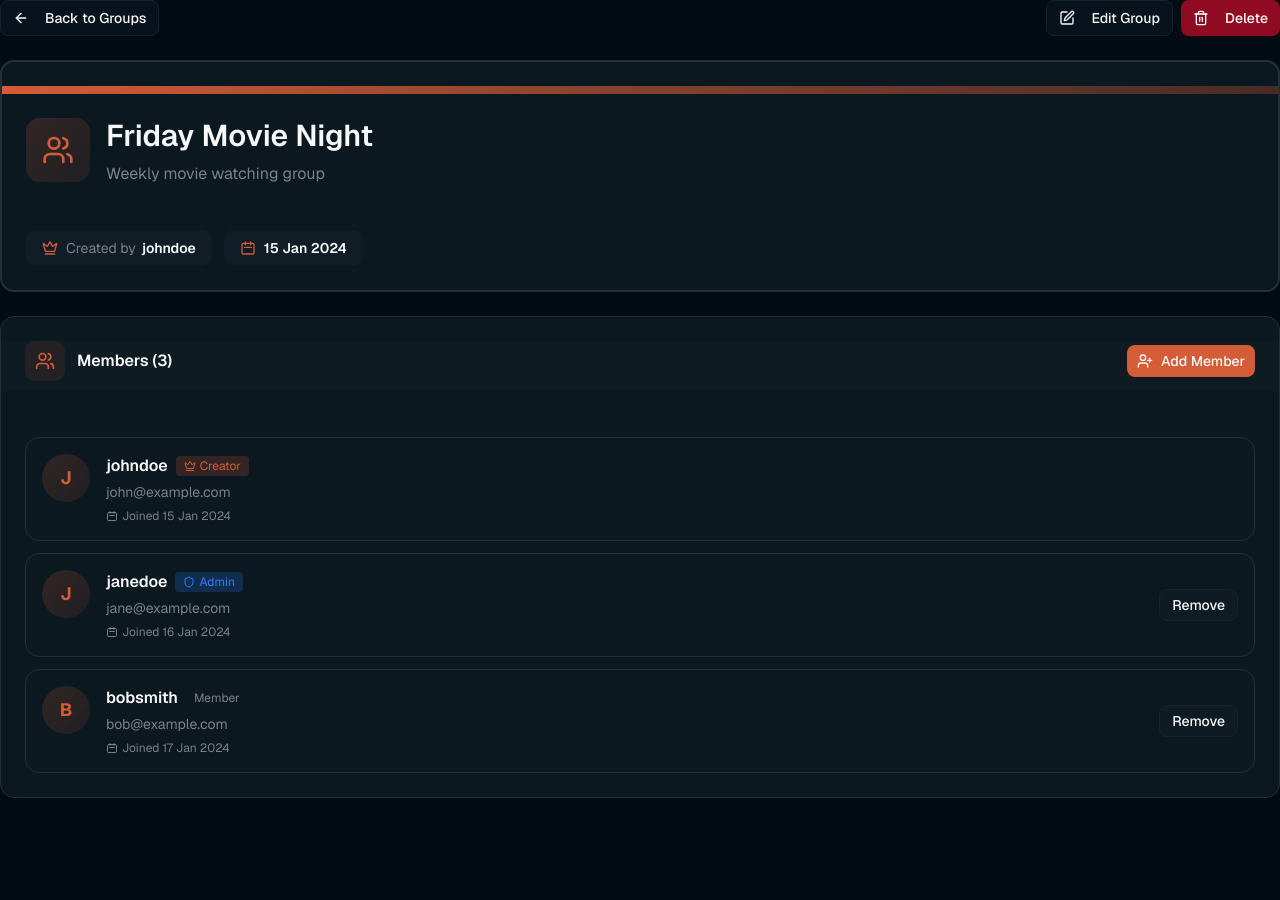
Test: GroupDetail › opens remove member dialog when remove button is clicked
The width and height of the screenshot is (1280, 900).
Check: the text "Friday Movie Night" is shown, box [106, 116, 373, 155]
Click the button "Remove" in the row of "jane@example.com" at [1199, 605], box [1159, 589, 1238, 621]
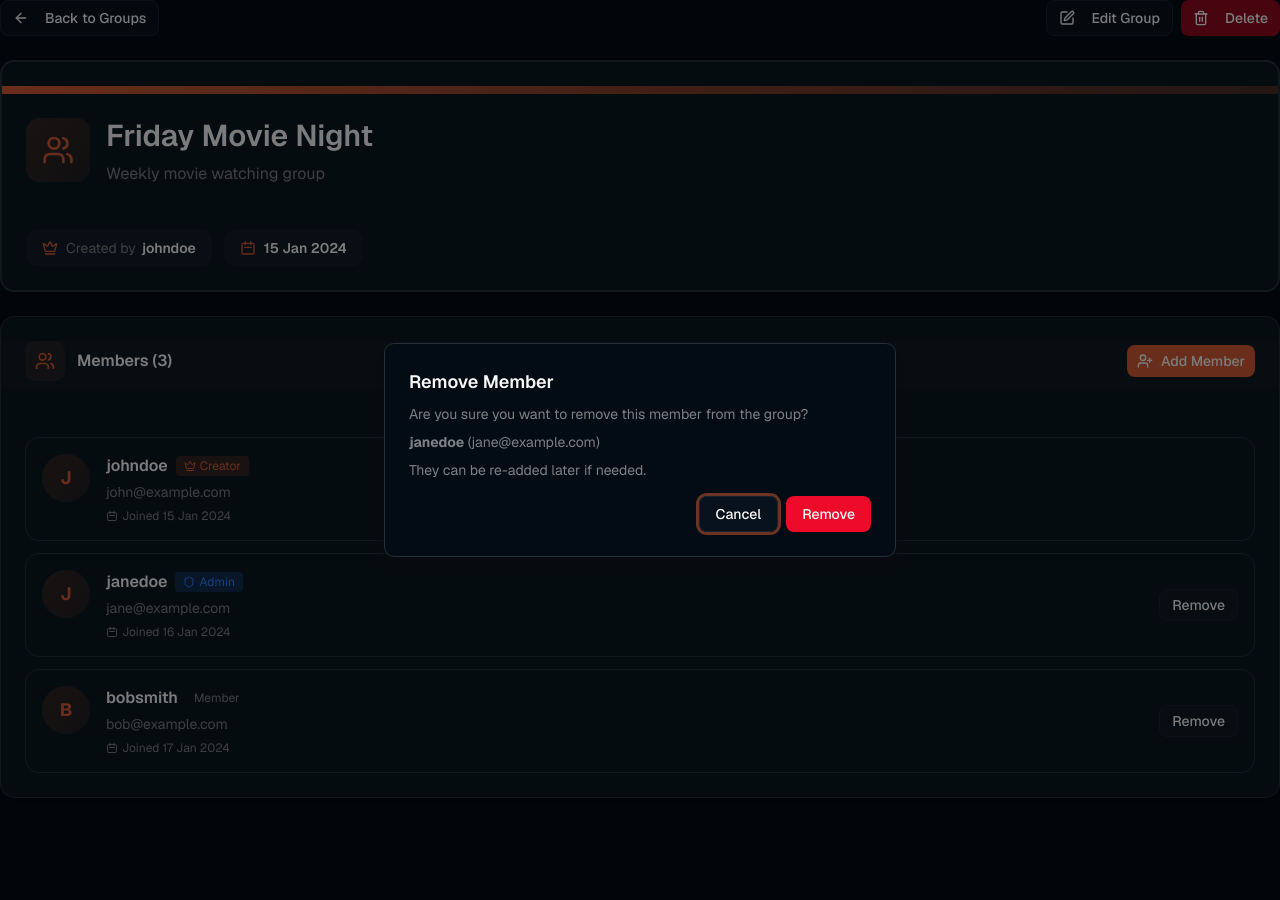
Check: the heading "Remove Member" is shown, box [409, 370, 554, 393]
Check: the text "Are you sure you want to remove this member from the group?" is shown, box [409, 404, 871, 424]
